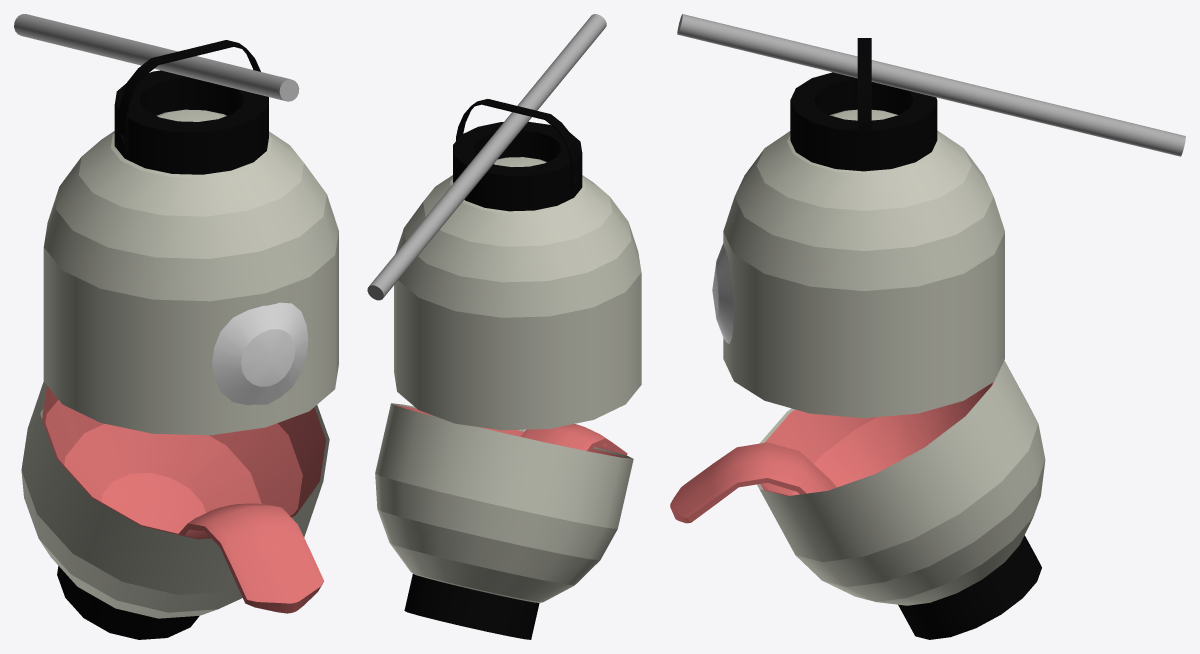
Rendered from Flyingenemy1.fbx.
3 renders of one model, left to right at view 1: azimuth 30°, elevation 25°; view 2: azimuth 150°, elevation 25°; view 3: azimuth 270°, elevation 25°, orthographic. The views are drawn at different scales.
Parts seen in each view (by area): view 1: pSphere4; view 2: pSphere4; view 3: pSphere4.
Boxes of the visible parts, x1,y1,x2,y2 form: pSphere4: (14,14,338,639); pSphere4: (367,14,641,639); pSphere4: (670,14,1185,639).
Bounding box in the file's own units: 5.9 × 14.12 × 10.79.
